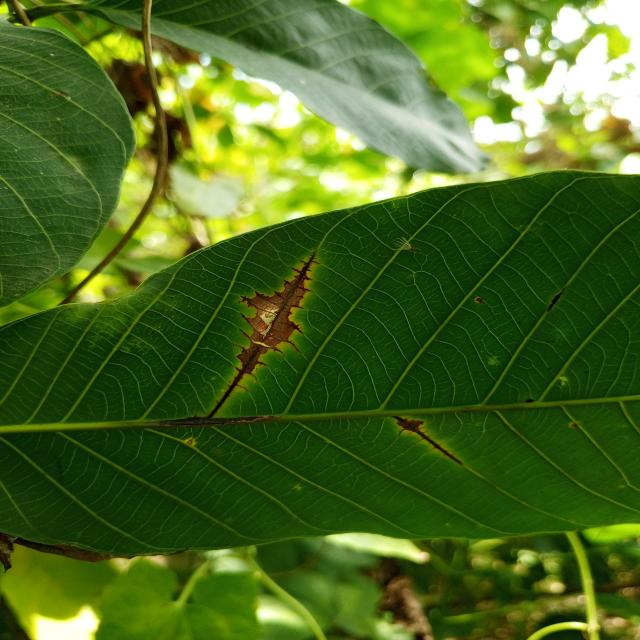Colletotrichum: (188, 440, 192, 444), (215, 450, 220, 453)
Corynespora: (208, 251, 320, 418), (392, 415, 463, 465), (157, 415, 259, 426), (547, 286, 565, 311)
Leaf-Blight: (0, 531, 121, 573)
